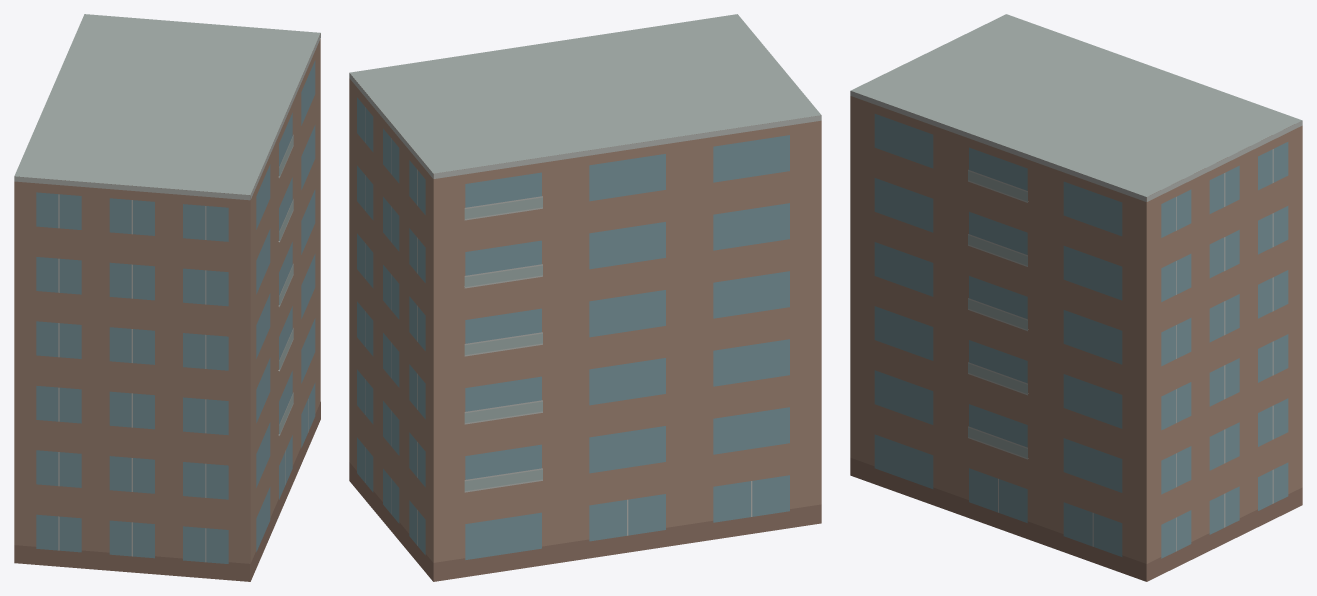
The model's file is survey-upis-32969731.glb.
3 views of the same model, side by side, from view 1: azimuth 30°, elevation 25°; view 2: azimuth 150°, elevation 25°; view 3: azimuth 270°, elevation 25° (orthographic). The views are drawn at different scales.
Parts seen in each view (by area): view 1: survey-upis-32969731.tmp; view 2: survey-upis-32969731.tmp; view 3: survey-upis-32969731.tmp.
Part boxes in pixels (x1,y1,x2,y2): survey-upis-32969731.tmp: [14, 14, 320, 581]; survey-upis-32969731.tmp: [349, 14, 821, 581]; survey-upis-32969731.tmp: [850, 14, 1302, 581].
Bounding box in the file's own units: 18.68 × 18.3 × 19.49.
